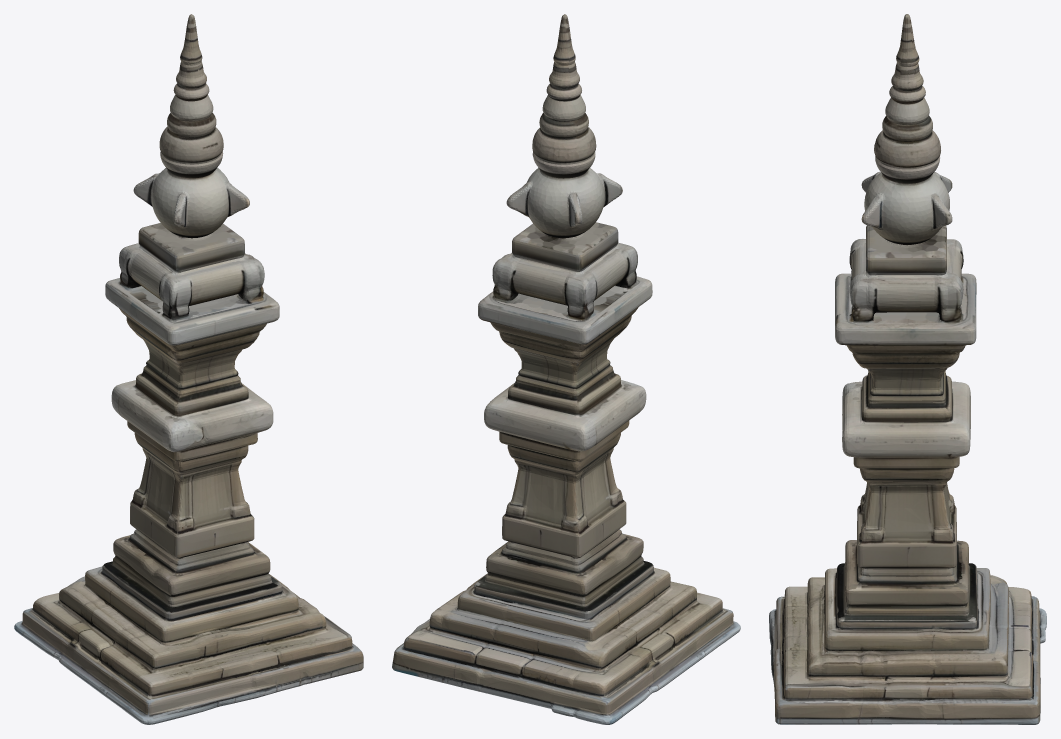
The model's file is kalasam-roof-finial-optimized.glb.
The picture shows the model from 3 angles, left to right: view 1: azimuth 30°, elevation 25°; view 2: azimuth 150°, elevation 25°; view 3: azimuth 270°, elevation 25°; orthographic projection. The views are drawn at different scales.
Parts seen in each view (by area): view 1: 15dadc69-0d2b-4046-820a-a81e81386448_texturing.obj; view 2: 15dadc69-0d2b-4046-820a-a81e81386448_texturing.obj; view 3: 15dadc69-0d2b-4046-820a-a81e81386448_texturing.obj.
Boxes of the visible parts, x1,y1,x2,y2 form: 15dadc69-0d2b-4046-820a-a81e81386448_texturing.obj: (14, 14, 363, 724); 15dadc69-0d2b-4046-820a-a81e81386448_texturing.obj: (392, 14, 740, 724); 15dadc69-0d2b-4046-820a-a81e81386448_texturing.obj: (769, 14, 1046, 724).
Bounding box in the file's own units: 0.5516 × 1.5 × 0.5748.
Materials: 1 (1 with a texture image).
